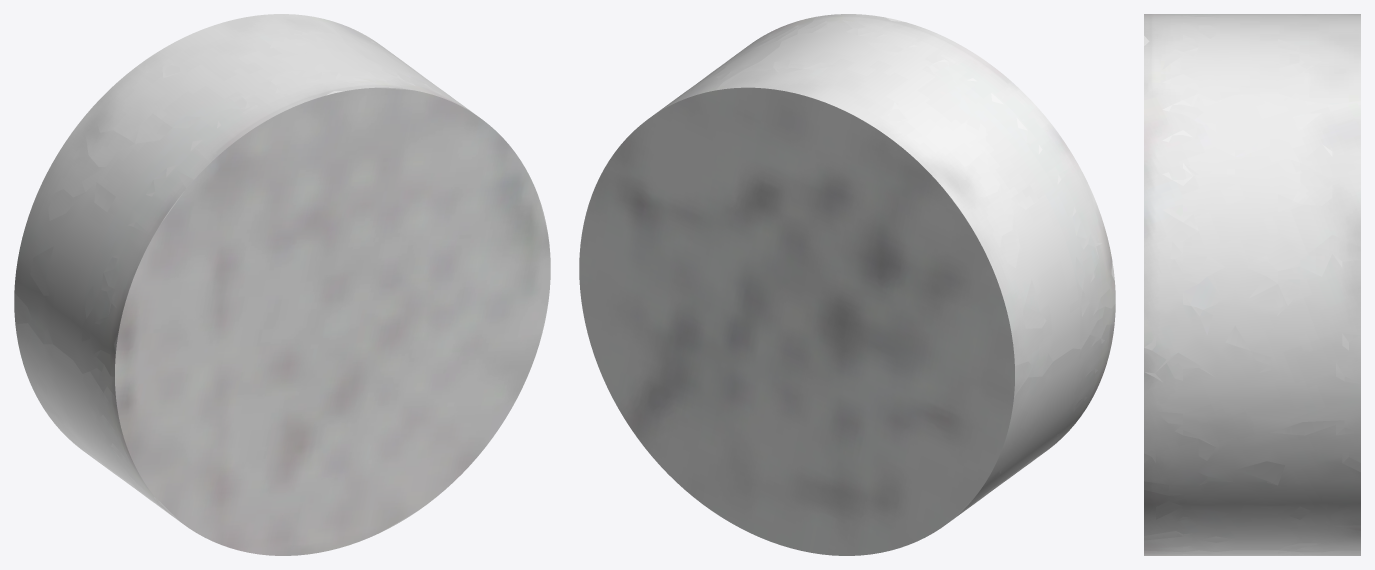
File: selector_dial__dial_body.glb
The picture shows the model from 3 angles, left to right: view 1: azimuth 30°, elevation 25°; view 2: azimuth 150°, elevation 25°; view 3: azimuth 270°, elevation 25°; orthographic projection. The views are drawn at different scales.
Parts seen in each view (by area): view 1: geometry_0; view 2: geometry_0; view 3: geometry_0.
Part boxes in pixels (x1=…): geometry_0: x1=14, y1=14, x2=550, y2=555; geometry_0: x1=579, y1=14, x2=1115, y2=555; geometry_0: x1=1144, y1=14, x2=1360, y2=555.
Size of the model in its own units: 0.03 by 0.03 by 0.012.
Materials: 1 (1 with a texture image).
